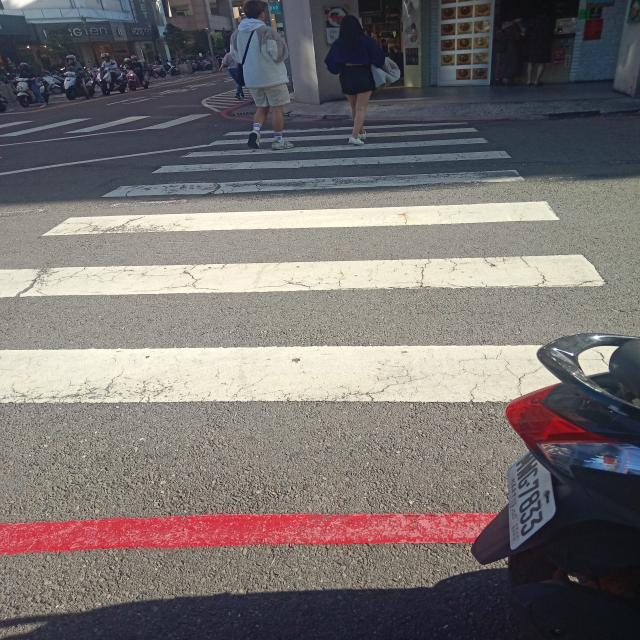person: (230, 0, 293, 150), (325, 15, 385, 145)
zebra crossing: (0, 123, 615, 405), (0, 114, 217, 136)
